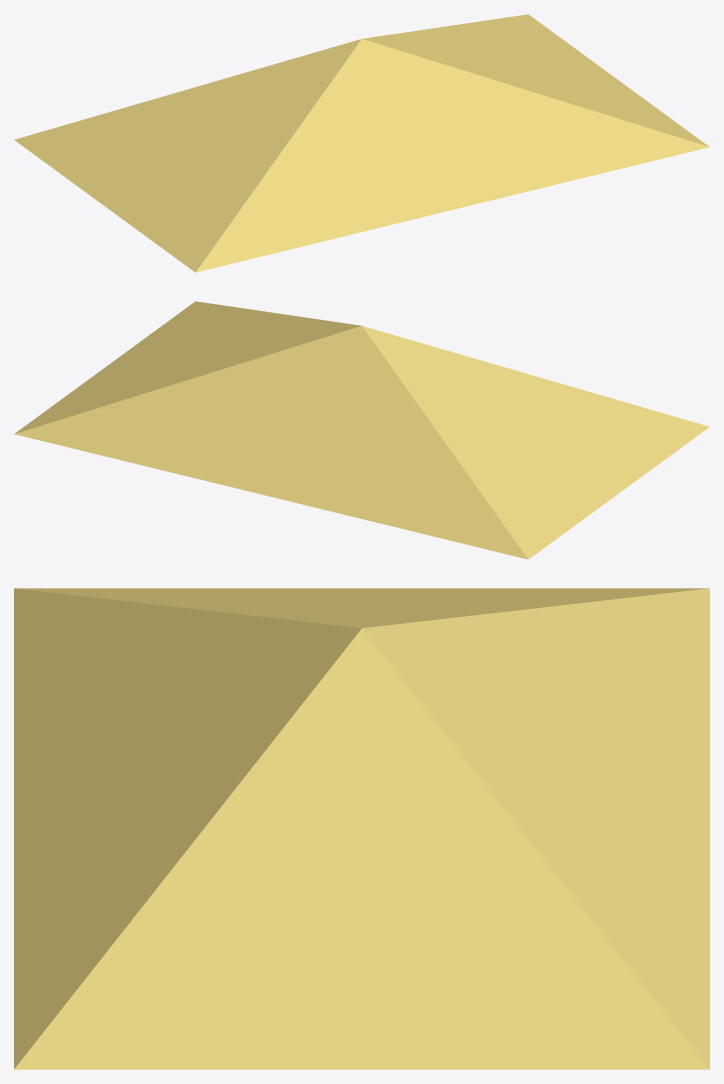
File: placeholder-dish.glb
3 views of the same model, one above another, from view 1: azimuth 30°, elevation 25°; view 2: azimuth 150°, elevation 25°; view 3: azimuth 270°, elevation 25° (orthographic). The views are drawn at different scales.
Bounding box in the file's own units: 1.8 × 0.35 × 1.1.
